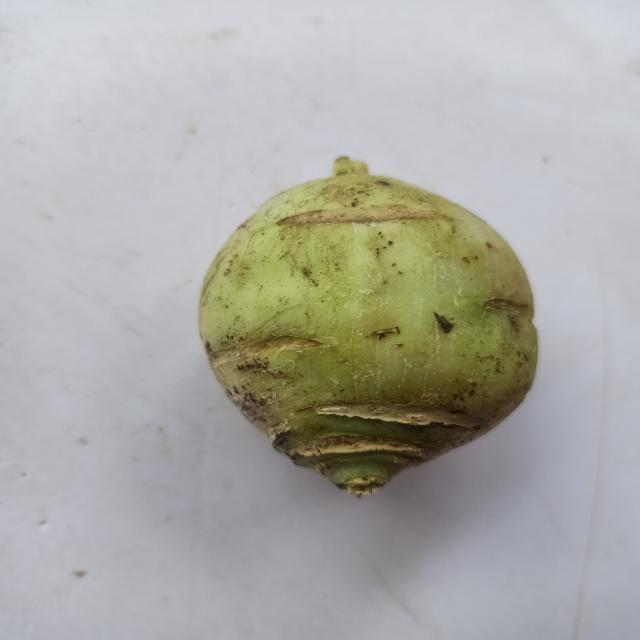Turnip: (175, 120, 562, 519)
